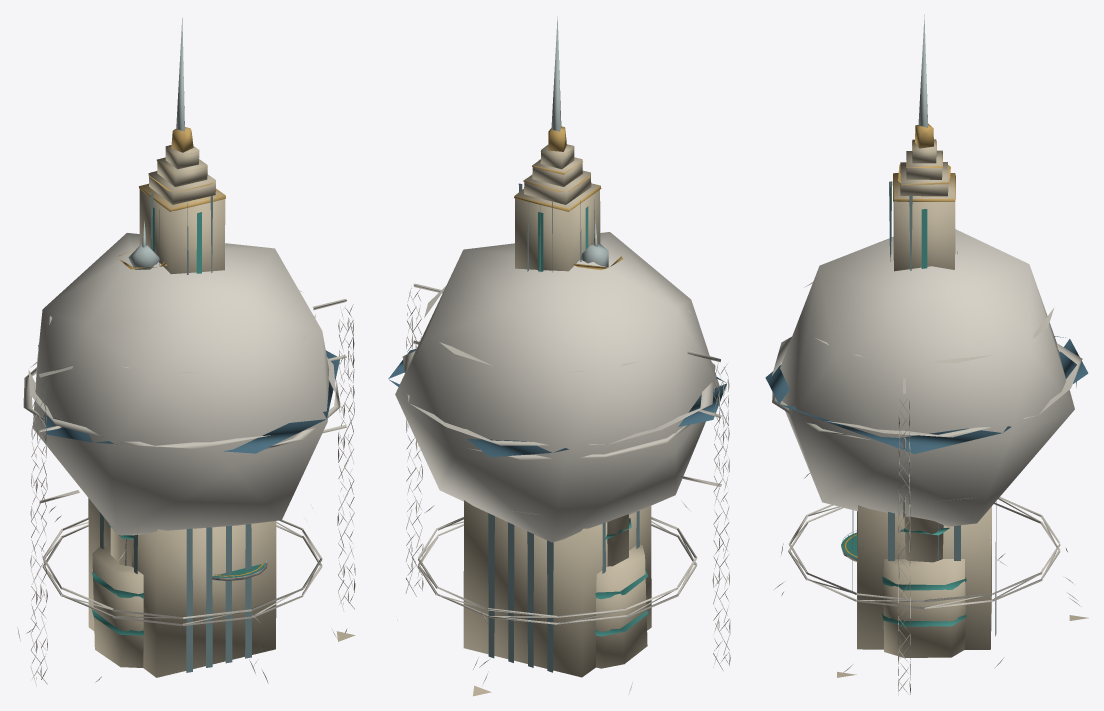
File: sky_district.glb
3 views of the same model, side by side, from view 1: azimuth 30°, elevation 25°; view 2: azimuth 150°, elevation 25°; view 3: azimuth 270°, elevation 25° (orthographic). The views are drawn at different scales.
Visible parts, largest first — view 1: Planetarium, StepSpire, CivicFins; view 2: Planetarium, StepSpire, CivicFins; view 3: Planetarium, StepSpire, CivicFins.
Boxes of the visible parts, x1=… form: Planetarium: x1=17, y1=233, x2=355, y2=686; StepSpire: x1=88, y1=17, x2=276, y2=677; CivicFins: x1=91, y1=221, x2=166, y2=667; Planetarium: x1=388, y1=232, x2=730, y2=696; StepSpire: x1=463, y1=16, x2=651, y2=677; CivicFins: x1=572, y1=220, x2=648, y2=668; Planetarium: x1=765, y1=229, x2=1088, y2=695; StepSpire: x1=852, y1=14, x2=996, y2=649; CivicFins: x1=882, y1=516, x2=966, y2=657.
Bounding box in the file's own units: 143 × 272 × 132.
